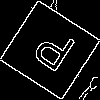P: (25, 25, 78, 82)
